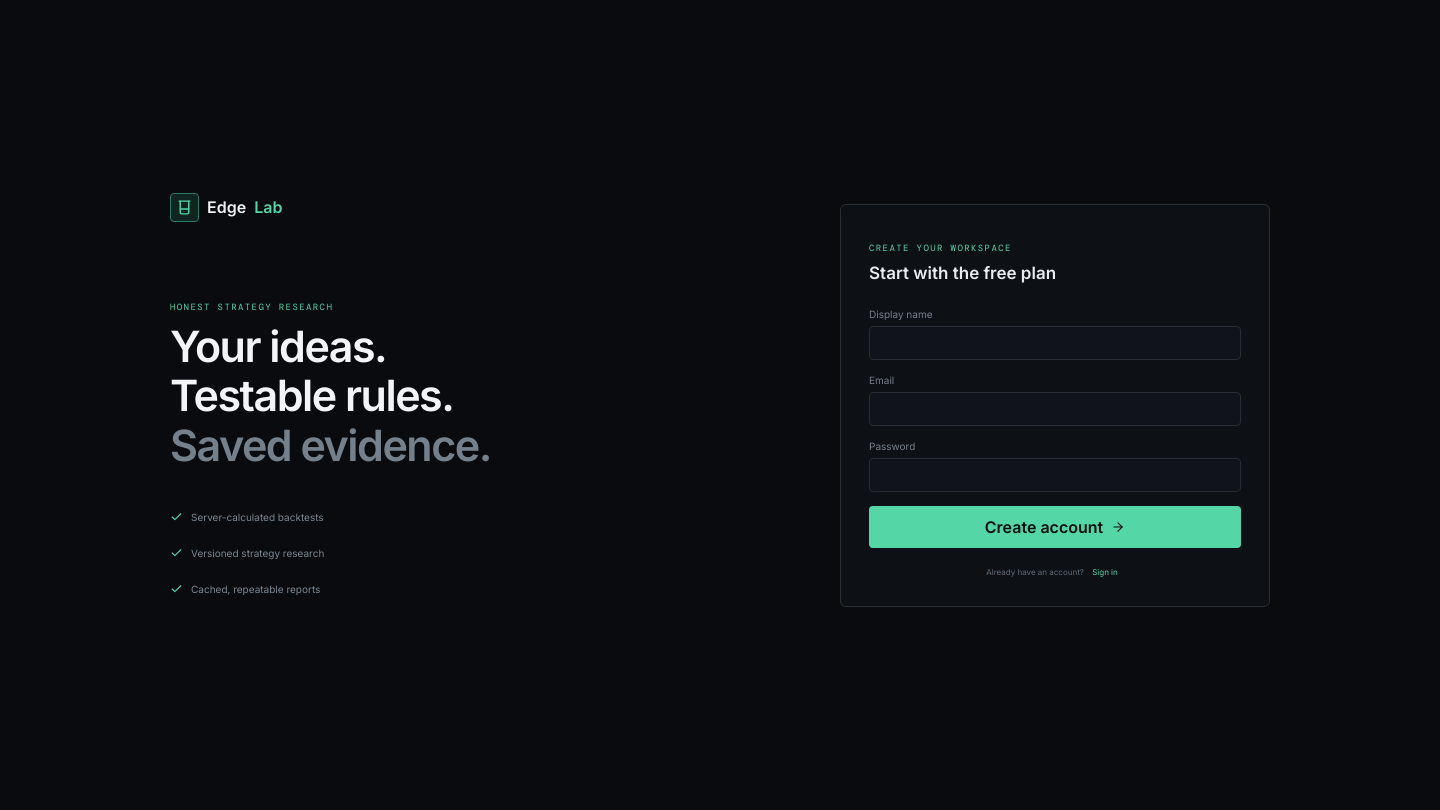
server-backed SaaS workspace › registers an account and opens the workspace
Check: the heading "Start with the free plan" is shown, box [869,262,1056,282]
In the field labelled "Display name": x=1055, y=342 [869,326,1241,360], type "Test Trader"
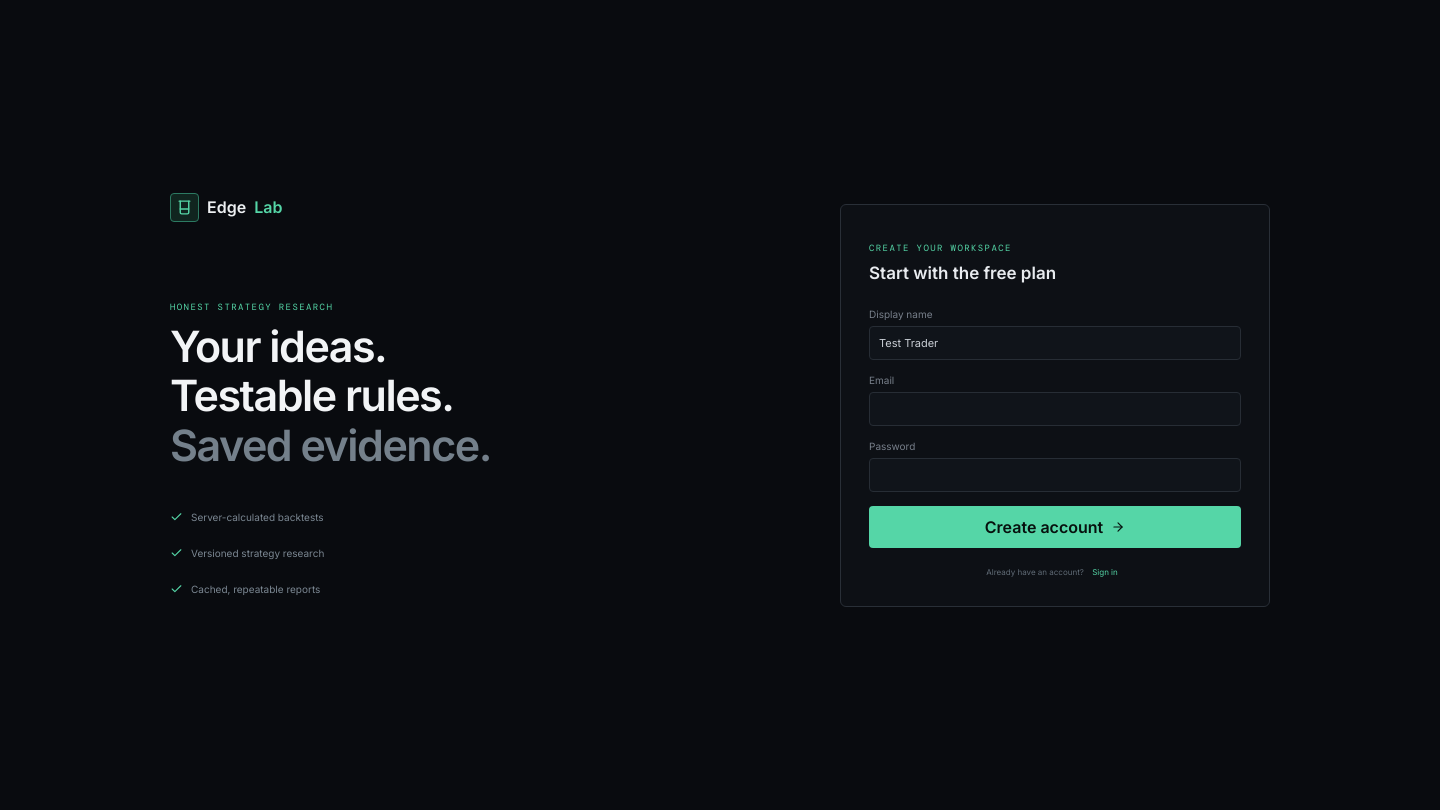
In the field labelled "Email": x=1055, y=408 [869,392,1241,426], type "trader@example.com"
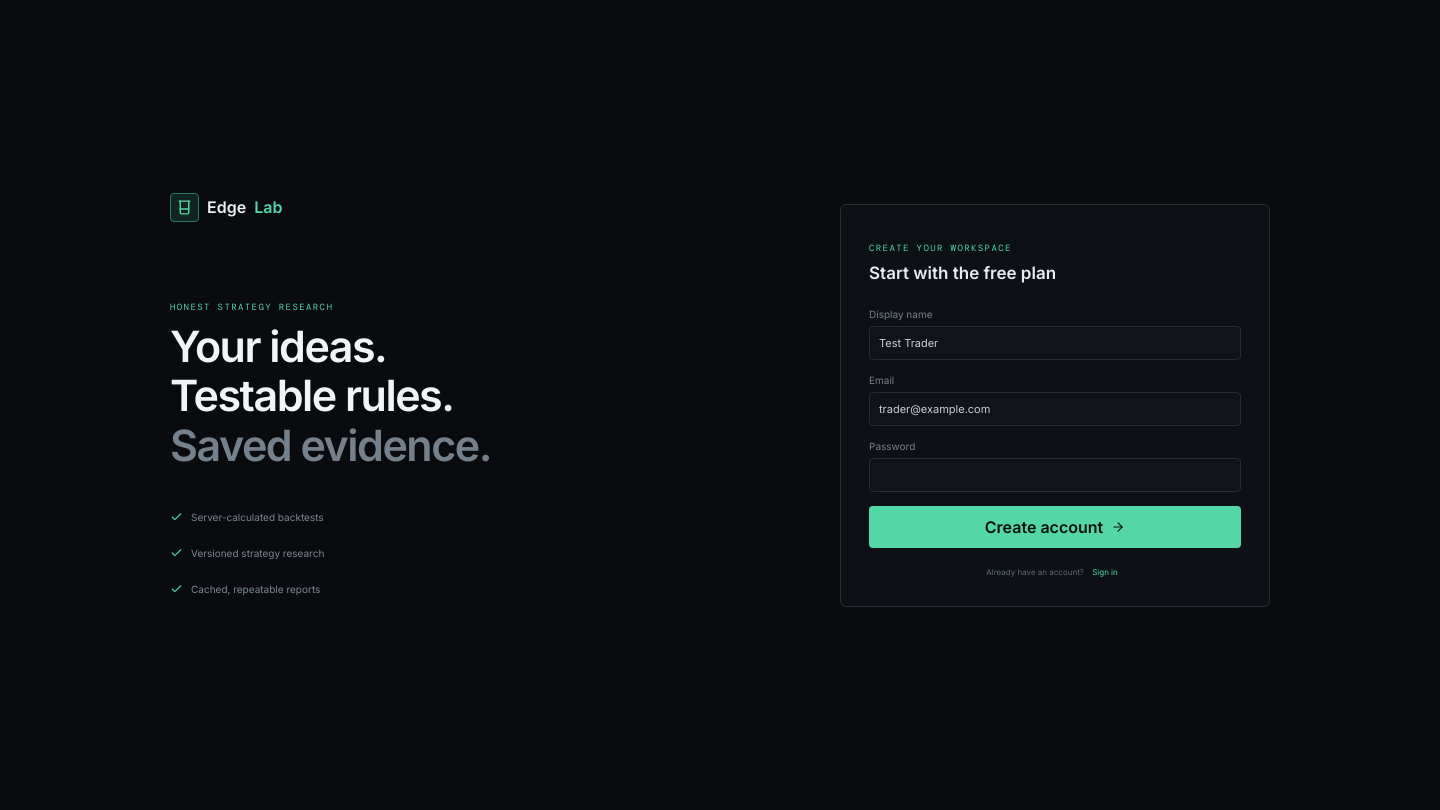
In the password field labelled "Password": x=1055, y=474 [869,458,1241,492], type "correct horse battery staple"
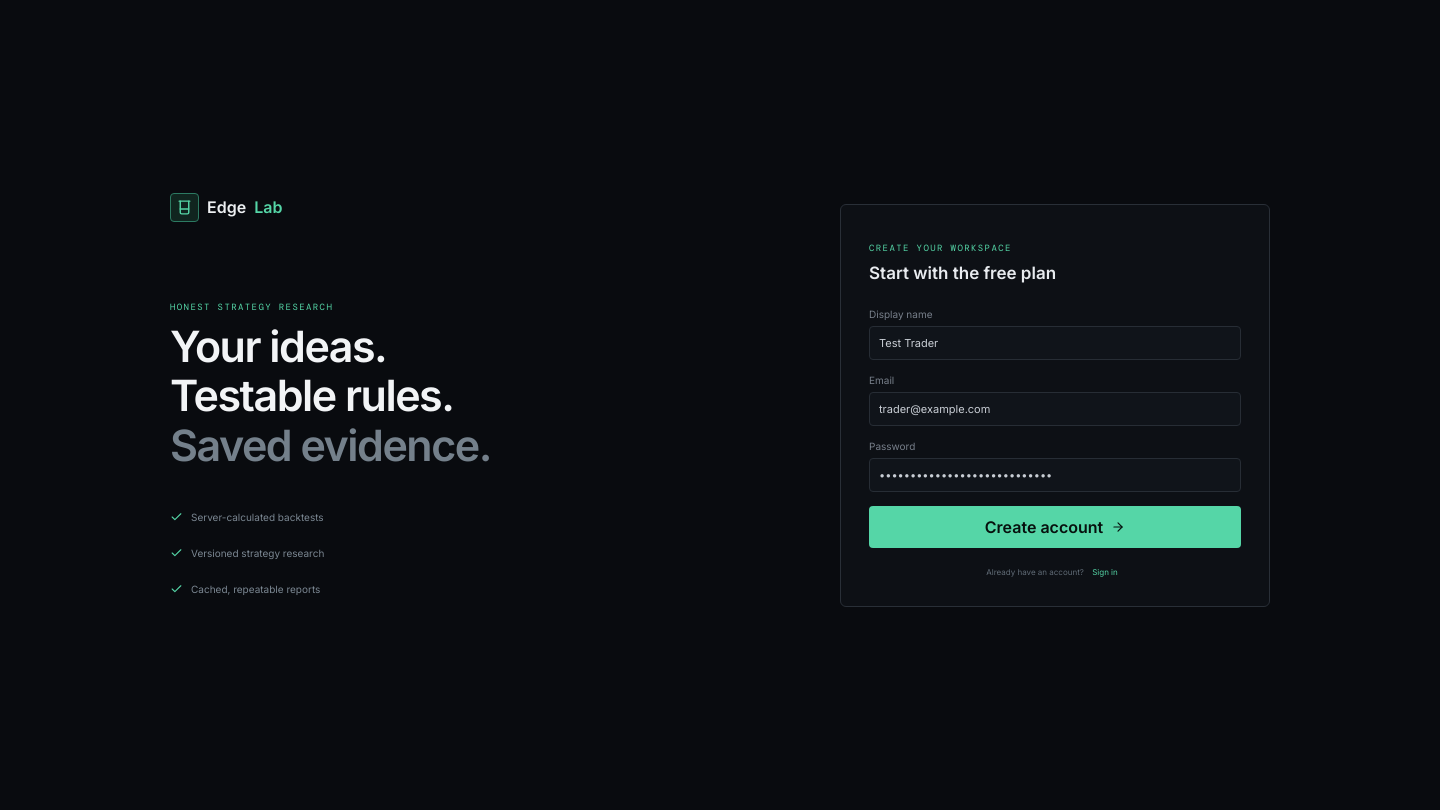
Click the button "Create account": x=1055, y=526 [869,506,1241,548]
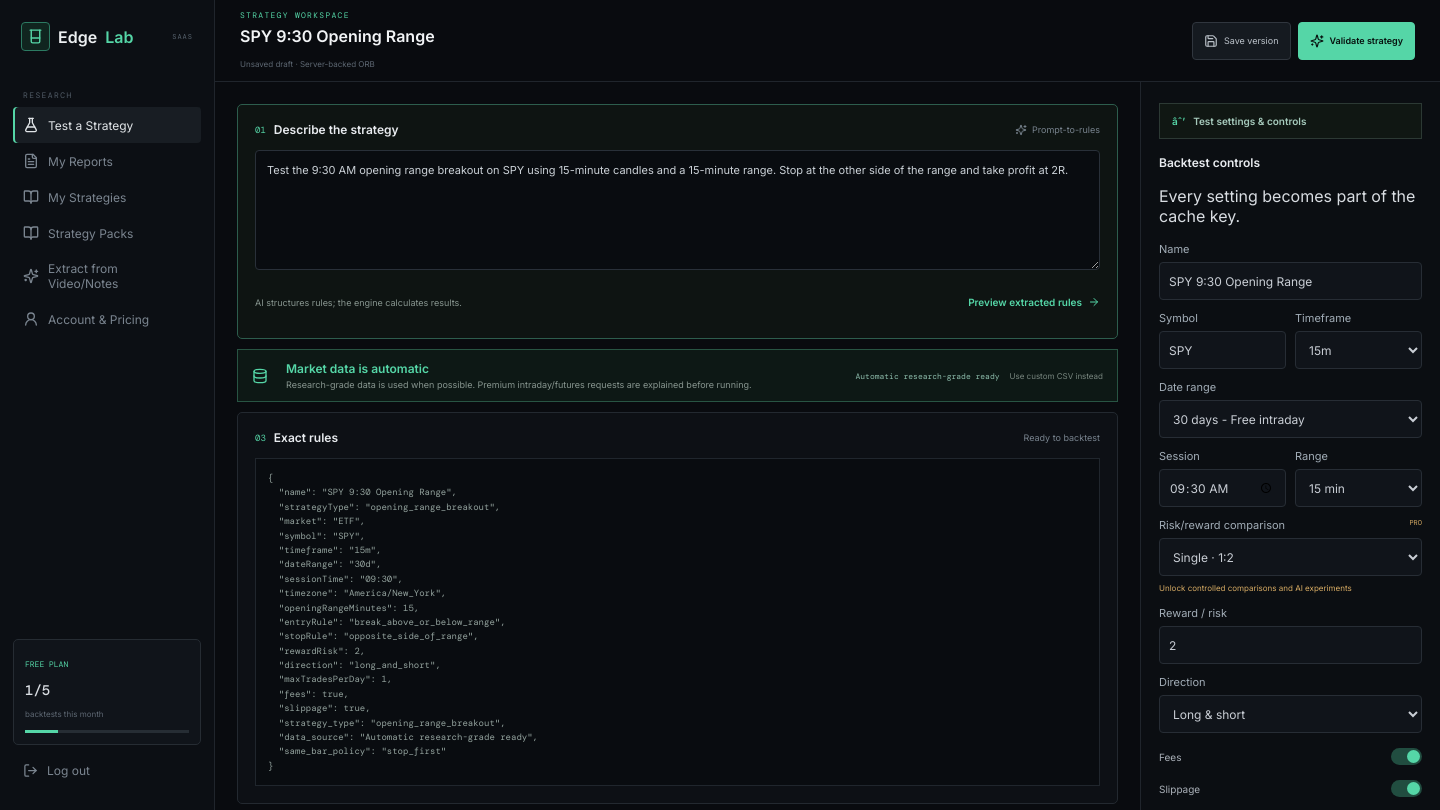
Check: the heading "Describe the strategy" is shown, box [274,122,399,137]
Check: the text "1/5" is shown, box [25,681,50,699]
